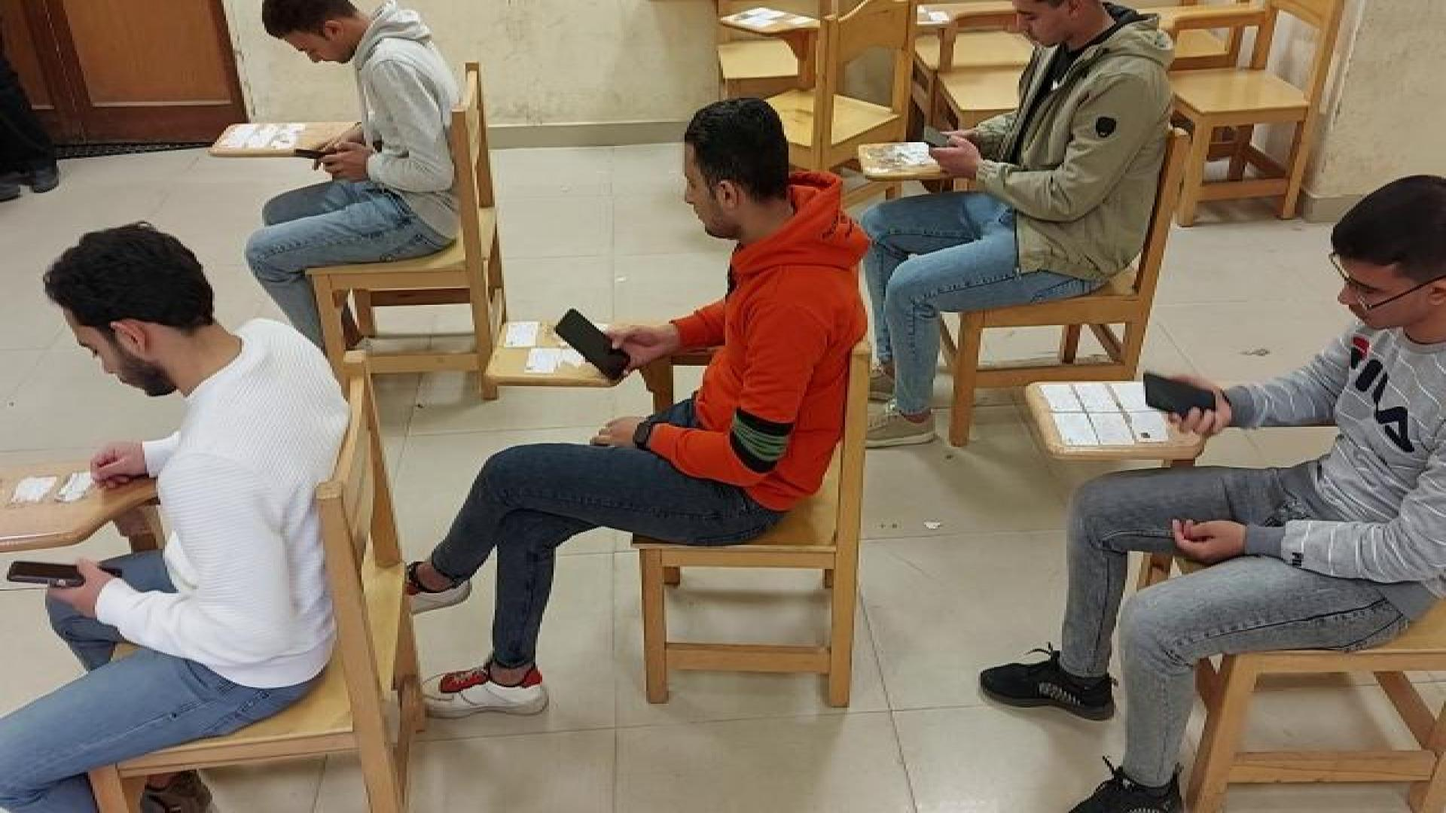phone: (551, 306, 633, 385), (6, 557, 123, 596), (1141, 369, 1220, 425), (920, 124, 956, 148), (291, 145, 334, 162)
